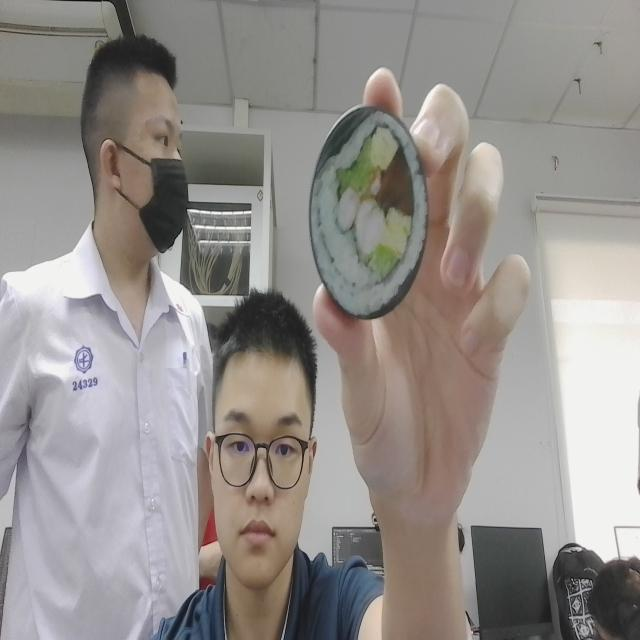sushi: (299, 96, 436, 330)
